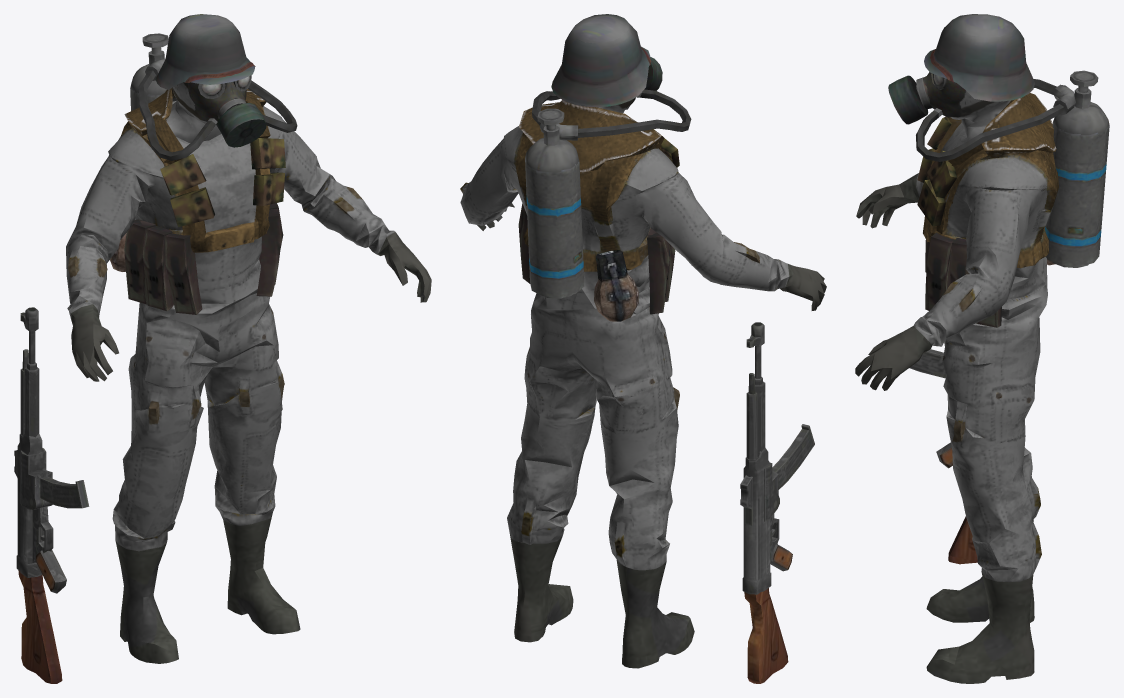
The model's file is abc-soldier.glb.
3 views of the same model, side by side, from view 1: azimuth 30°, elevation 25°; view 2: azimuth 150°, elevation 25°; view 3: azimuth 270°, elevation 25° (orthographic).
Parts seen in each view (by area): view 1: Material1 (×2); view 2: Material1 (×2); view 3: Material1 (×2).
Part boxes in pixels (x1,y1,x2,y2): Material1 (×2): (14,14,431,683); Material1 (×2): (460,14,826,683); Material1 (×2): (855,14,1109,683).
Bounding box in the file's own units: 4.51 × 7.53 × 2.78.
2 materials, 2 textured.
